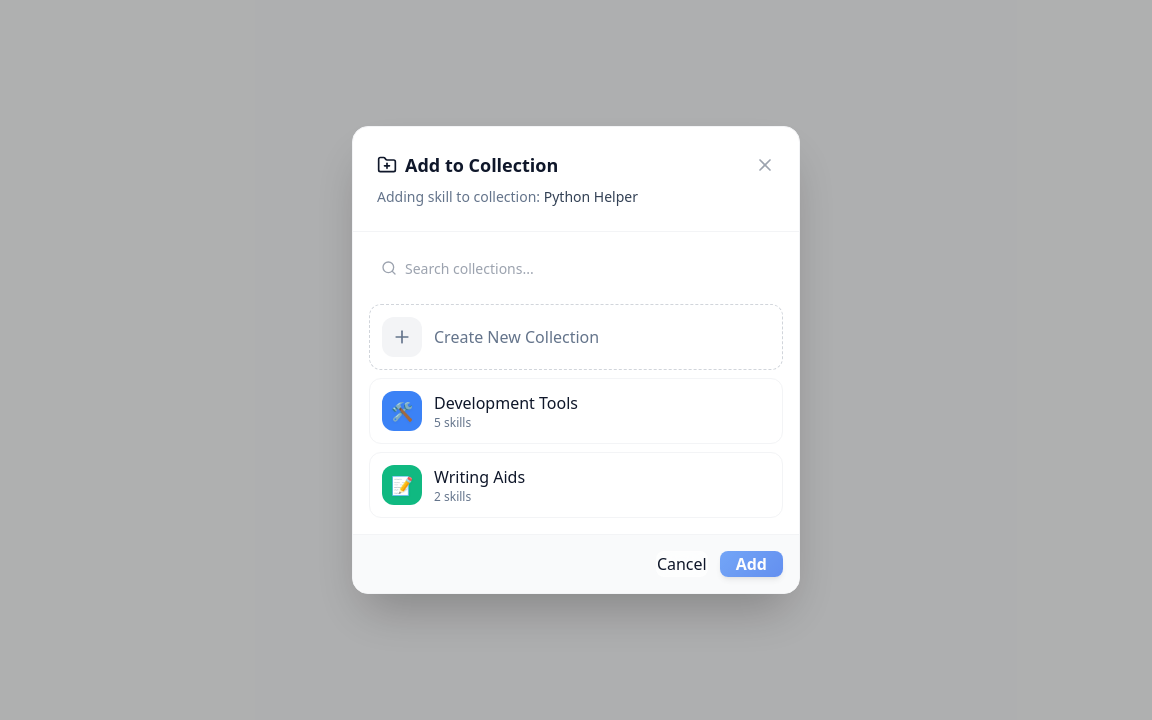
Test: AddToCollectionModal › shows create new collection form when clicking create button
The image size is (1152, 720).
Click the button "Create New Collection".
click(576, 337)  # box [369,304,783,370]
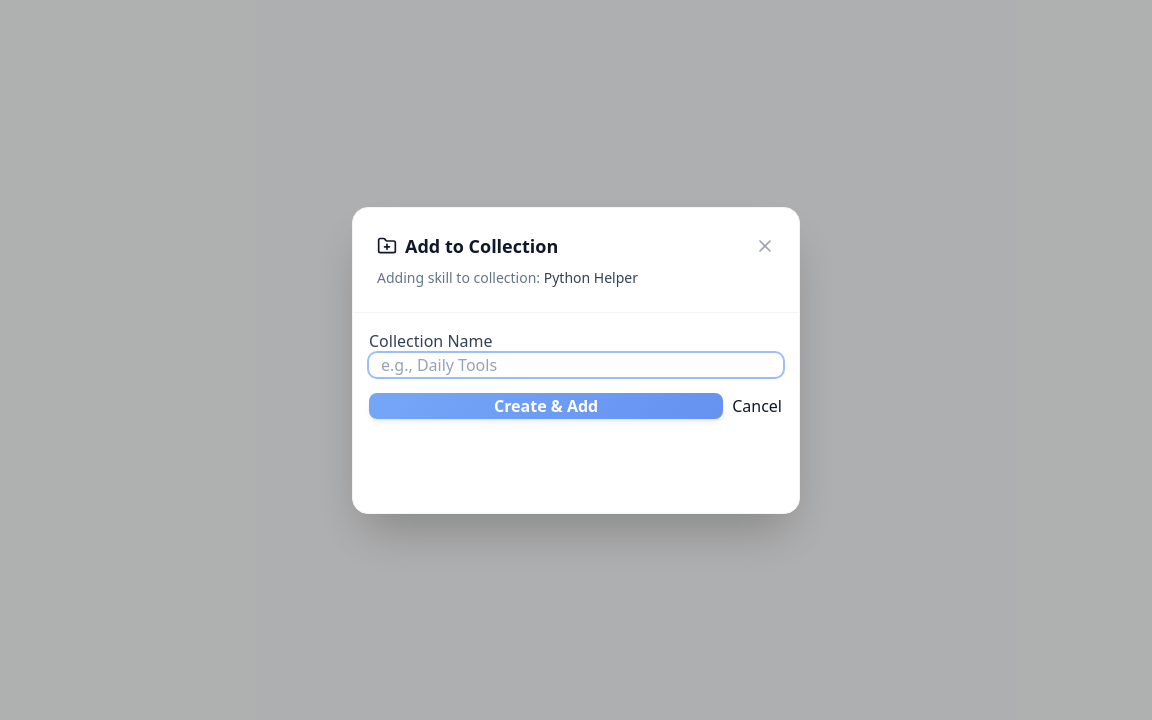
Check: the field with placeholder "e.g., Daily Tools" is shown, box [369,352,783,376]
Check: the button "Create & Add" is shown, box [369,392,723,418]
